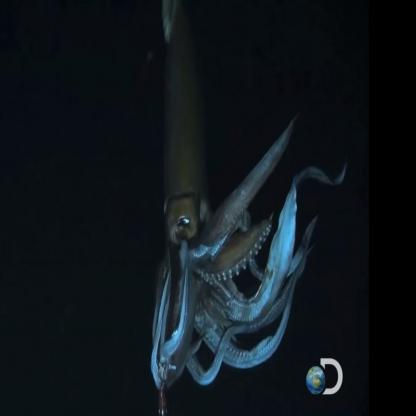colossal_squid: (136, 0, 303, 414)
